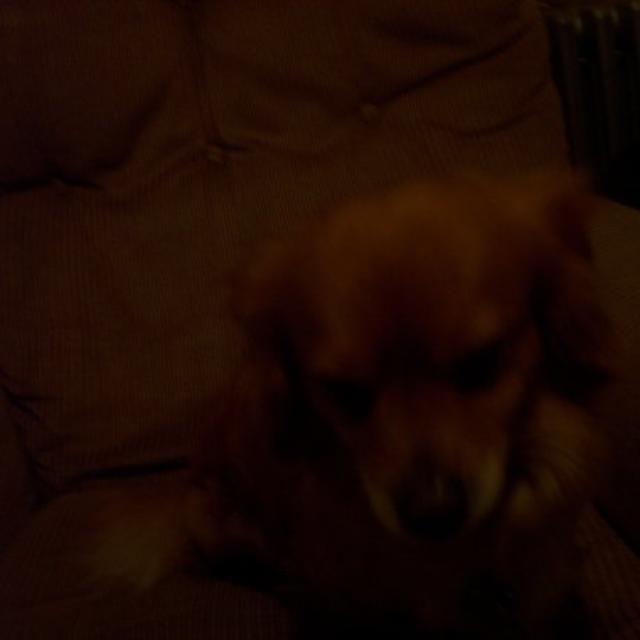dog: (23, 159, 640, 635)
